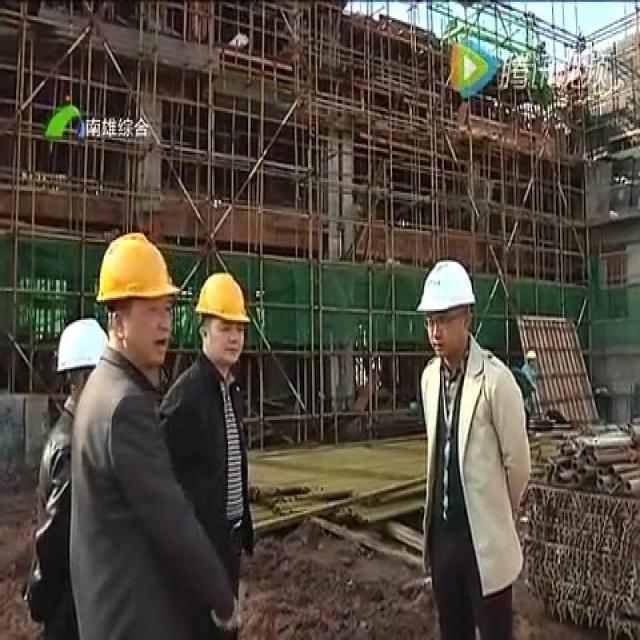helmet: (98, 308, 173, 492), (419, 344, 475, 477), (195, 359, 246, 489), (55, 417, 108, 536)
